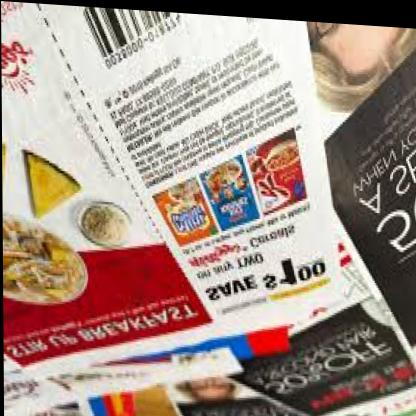Paper: (1, 0, 416, 416)
